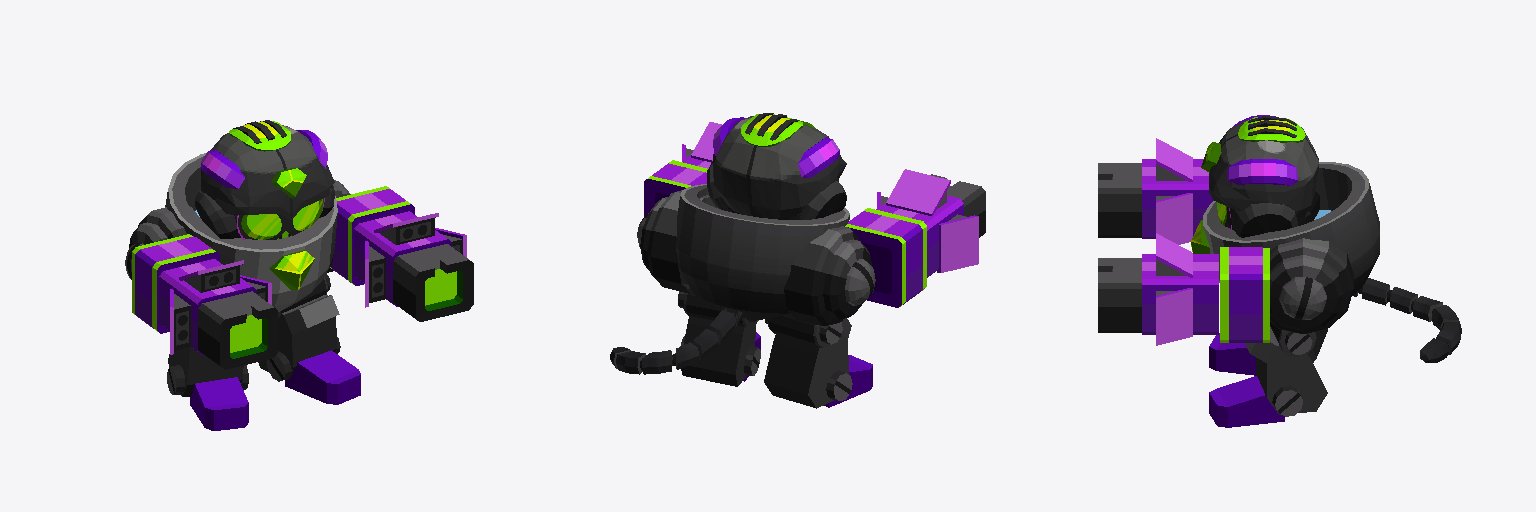
3 renders of one model, left to right at view 1: azimuth 30°, elevation 25°; view 2: azimuth 150°, elevation 25°; view 3: azimuth 270°, elevation 25°, orthographic.
Visible parts, largest first — view 1: FlatSkin_DartlingGunner_MAD; view 2: FlatSkin_DartlingGunner_MAD; view 3: FlatSkin_DartlingGunner_MAD.
Part boxes in pixels (bbox=[...]): FlatSkin_DartlingGunner_MAD: bbox=[125, 120, 473, 430]; FlatSkin_DartlingGunner_MAD: bbox=[610, 113, 985, 408]; FlatSkin_DartlingGunner_MAD: bbox=[1098, 115, 1461, 427].
Bounding box in the file's own units: 40.18 × 34.76 × 42.67.
Materials: 1 (1 with a texture image).